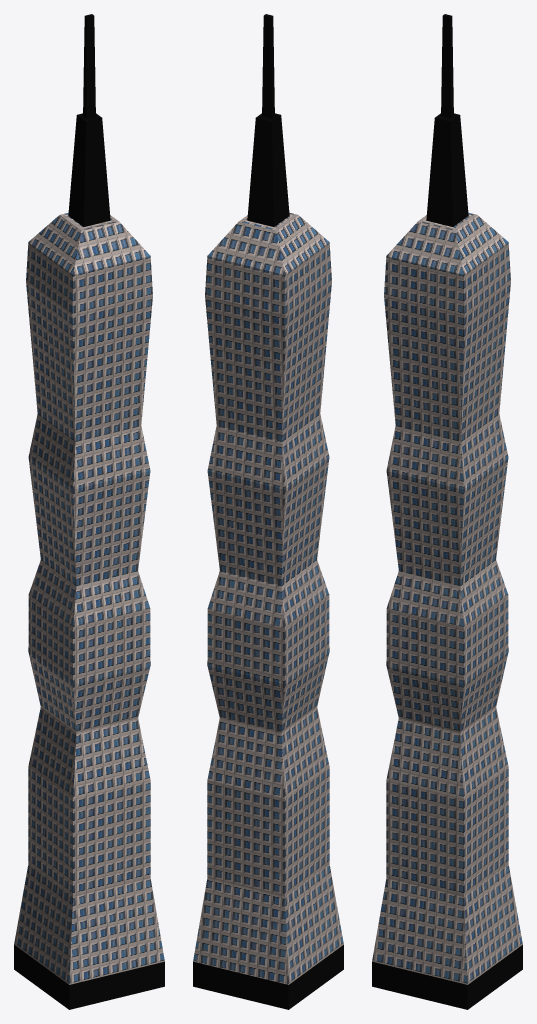
File: building3.glb
3 views of the same model, side by side, from view 1: azimuth 30°, elevation 25°; view 2: azimuth 150°, elevation 25°; view 3: azimuth 330°, elevation 25° (orthographic).
Visible parts, largest first — view 1: Cube.001; view 2: Cube.001; view 3: Cube.001.
Part boxes in pixels (box(x1,y1,x2,y2)): Cube.001: box(14, 14, 164, 1009); Cube.001: box(193, 14, 343, 1009); Cube.001: box(372, 14, 522, 1009).
Bounding box in the file's own units: 1.48 × 14.25 × 1.48.
Materials: 2 (1 with a texture image).
